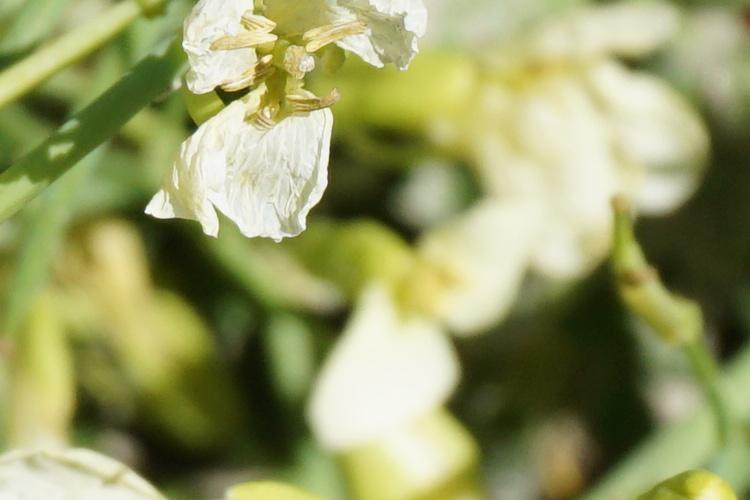white: (158, 11, 442, 253)
